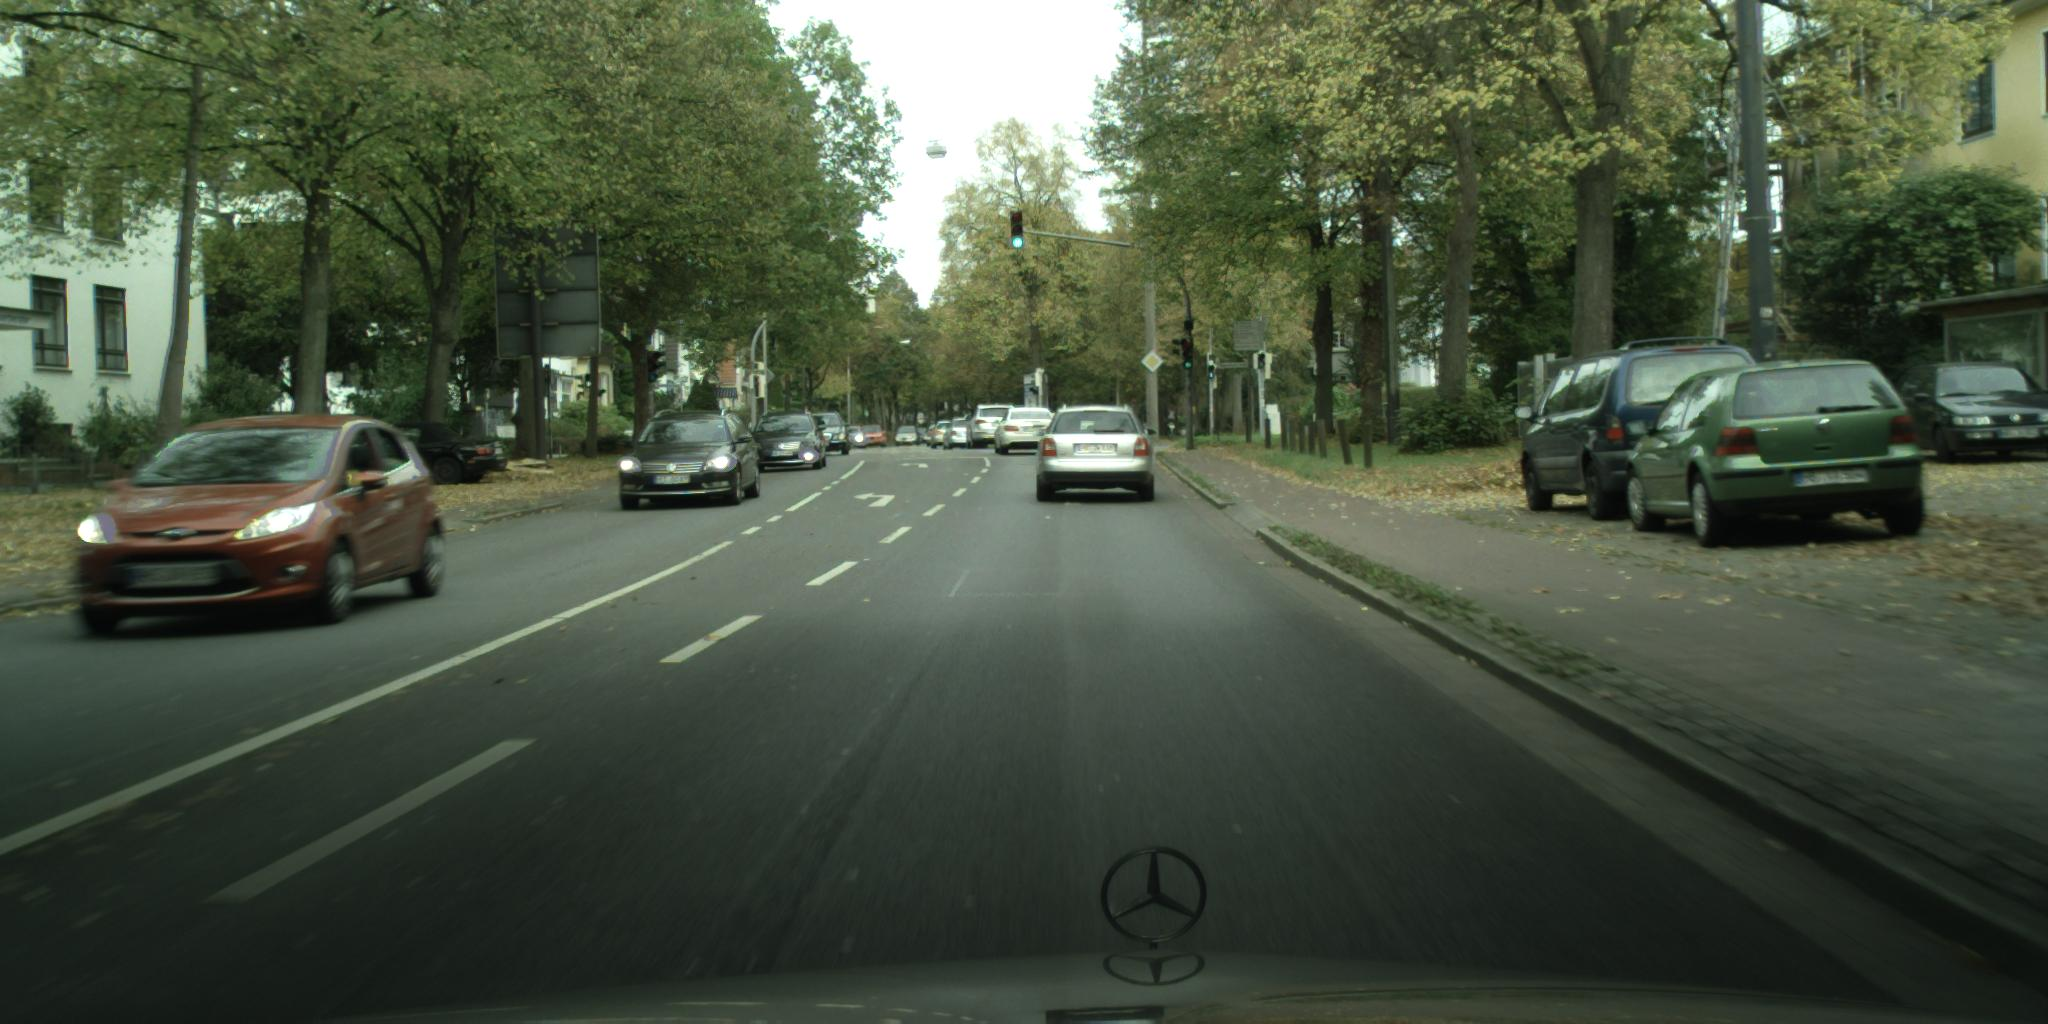car: (74, 415, 447, 644), (1626, 360, 1925, 551), (1515, 337, 1761, 522), (1891, 359, 2048, 466), (619, 408, 763, 512), (1034, 404, 1159, 503), (388, 423, 509, 487), (747, 411, 828, 475), (993, 408, 1059, 456), (967, 406, 1020, 451), (811, 414, 853, 457), (944, 419, 974, 452), (933, 421, 957, 451), (859, 426, 888, 449), (896, 426, 921, 448), (846, 426, 869, 449), (923, 424, 940, 448), (912, 428, 930, 445)
